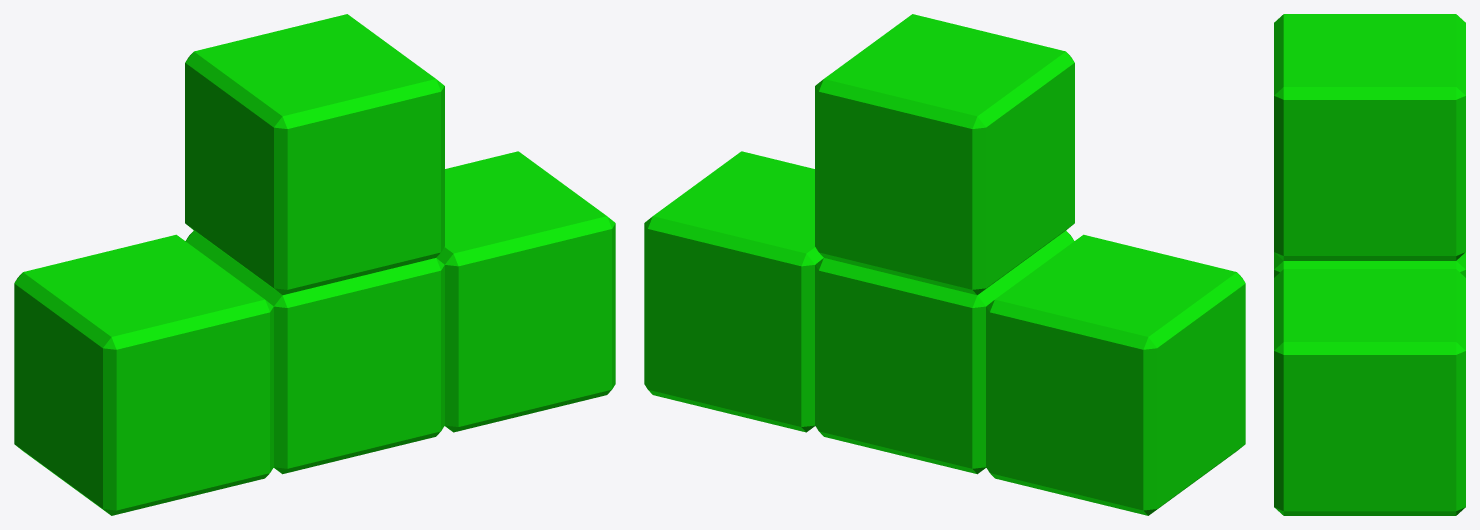
The model's file is TetrisT.glb.
3 renders of one model, left to right at view 1: azimuth 30°, elevation 25°; view 2: azimuth 150°, elevation 25°; view 3: azimuth 270°, elevation 25°, orthographic. The views are drawn at different scales.
Parts seen in each view (by area): view 1: TetrisT; view 2: TetrisT; view 3: TetrisT.
Part boxes in pixels (left/top/right/bottom): TetrisT: left=14, top=14, right=615, bottom=515; TetrisT: left=644, top=14, right=1245, bottom=515; TetrisT: left=1274, top=14, right=1465, bottom=515.
Size of the model in its own units: 3 by 2 by 1.
